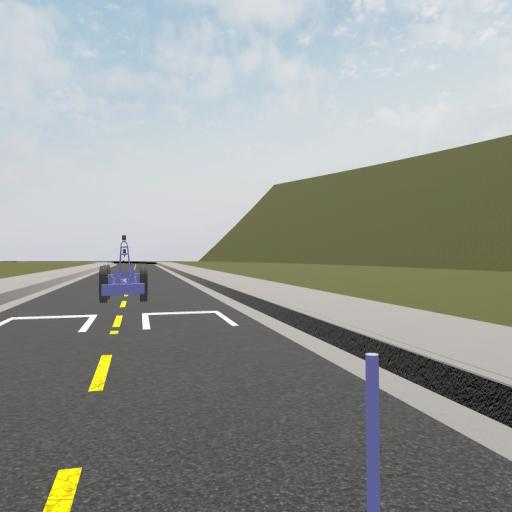ERP-42: (99, 233, 148, 301)
